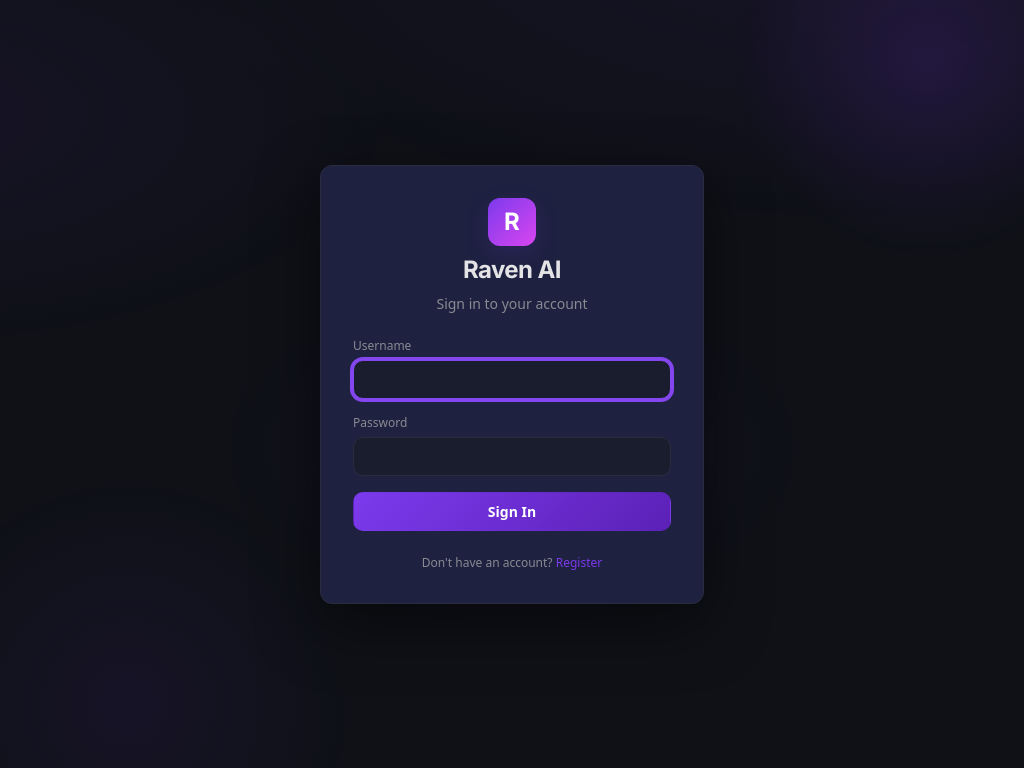
Test case: Login Page › switches to register mode
The image size is (1024, 768).
Click the button "Register". click: (579, 562)
box: [556, 554, 602, 570]
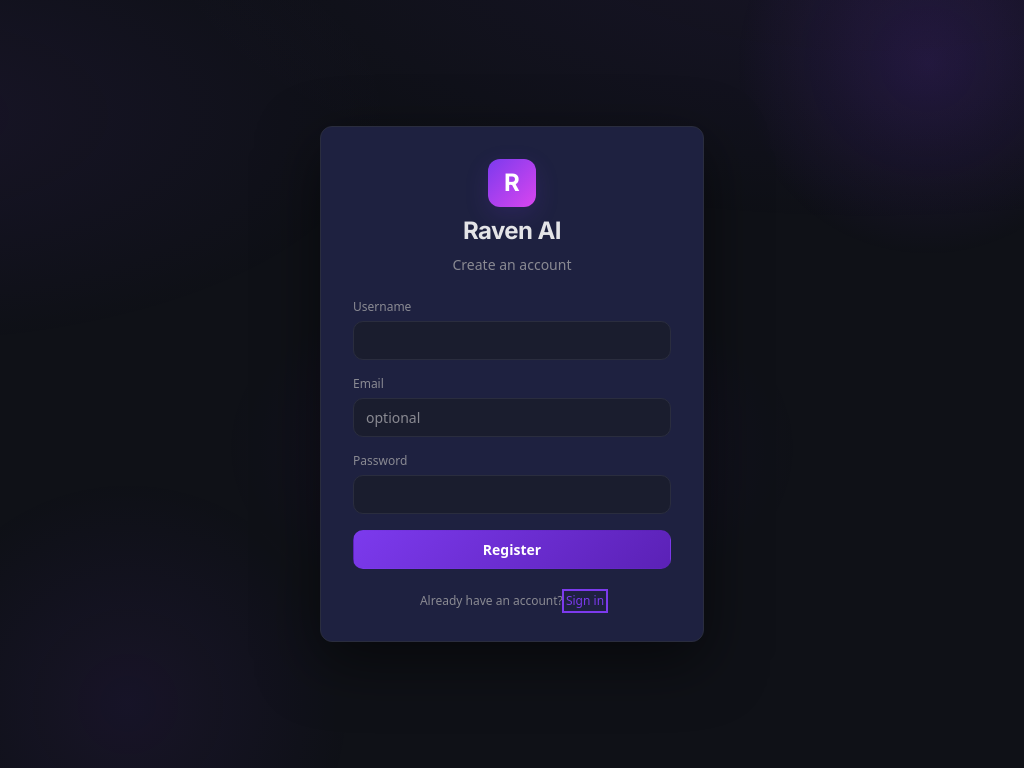
Now the text "Create an account" is shown, box [452, 255, 572, 274]
Now the button "Register" is shown, box [353, 530, 671, 569]
